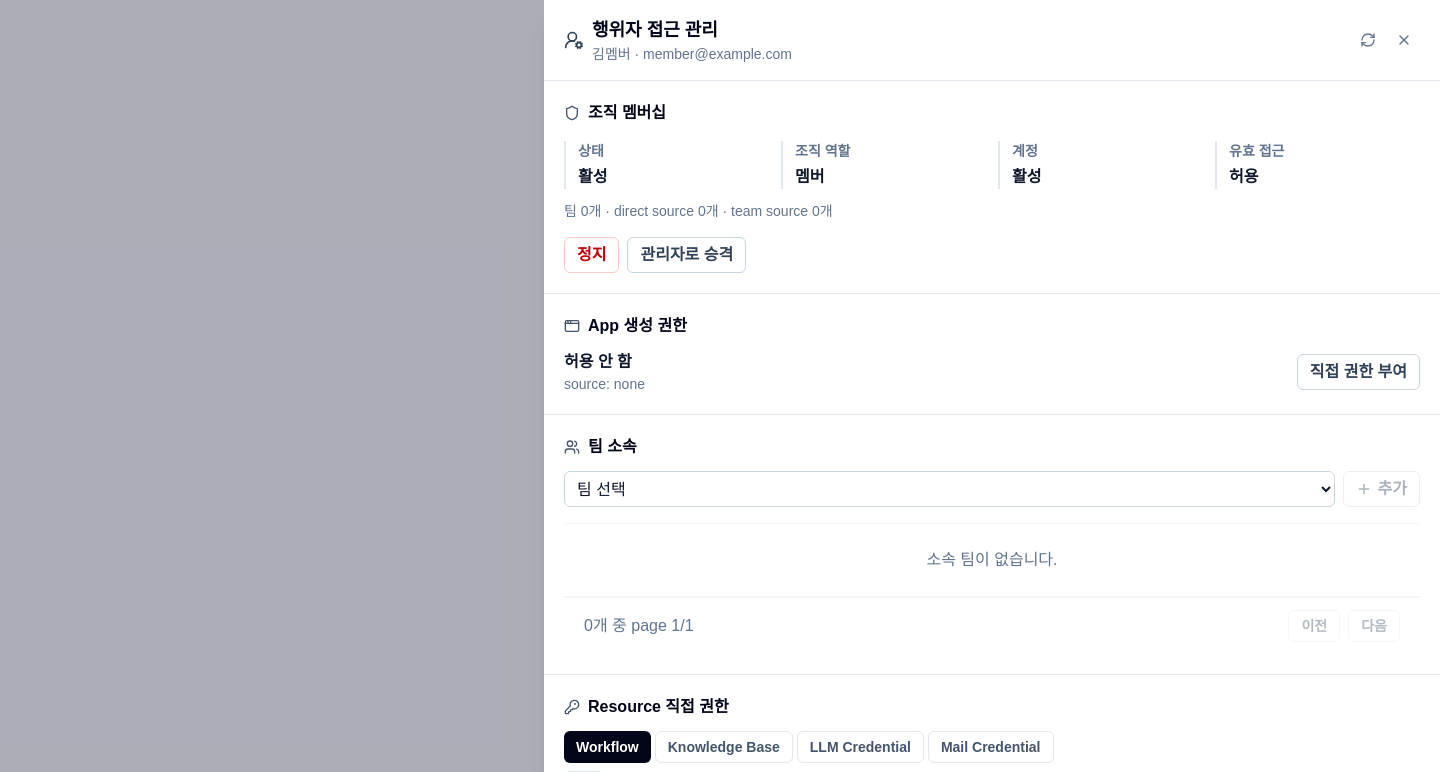
ActorAccessDrawer › stale 409는 자동 재시도하지 않고 최신 profile을 다시 조회한다
This screenshot has width=1440, height=772.
Click the button "정지". click: click(592, 255)
box: [564, 237, 620, 273]
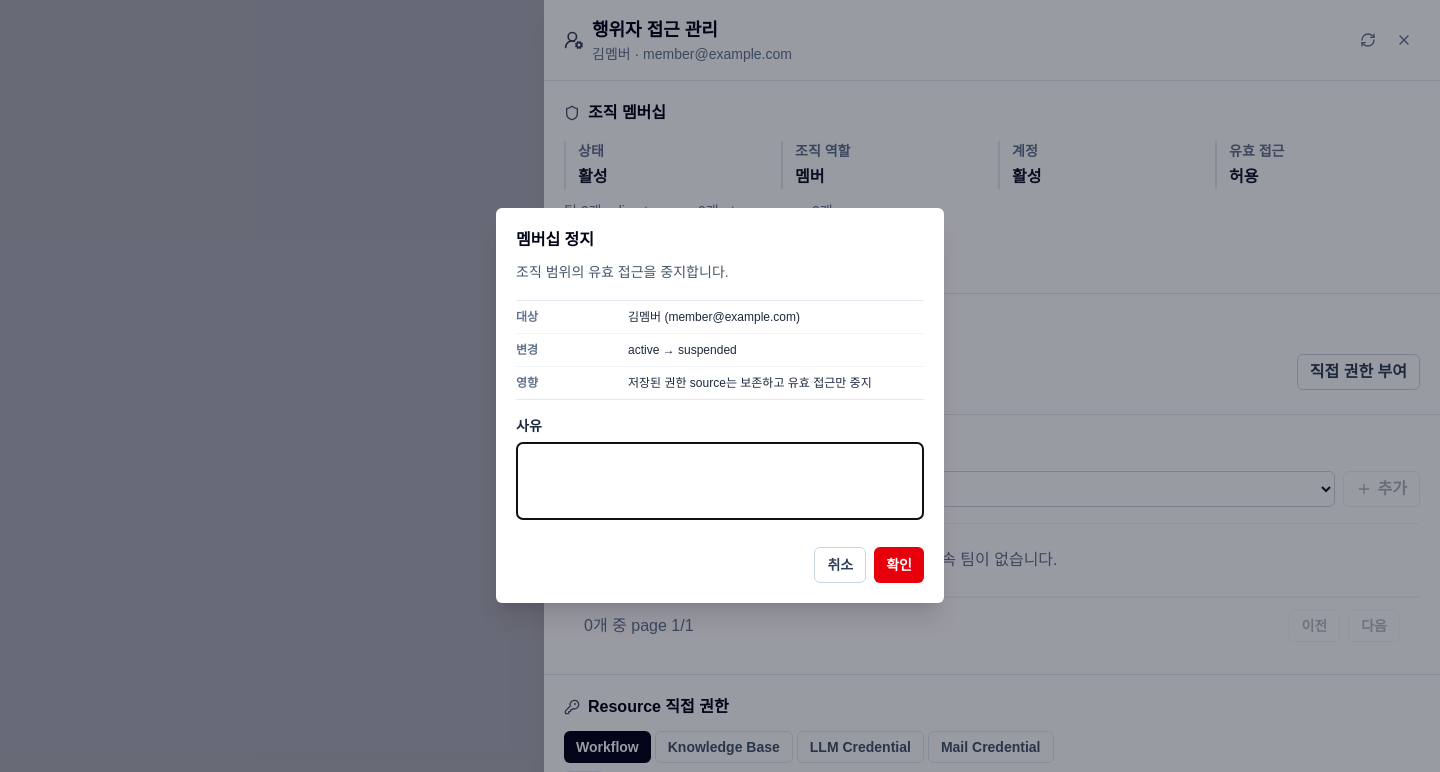
Click the button "확인". click: click(899, 564)
box: [874, 546, 924, 582]
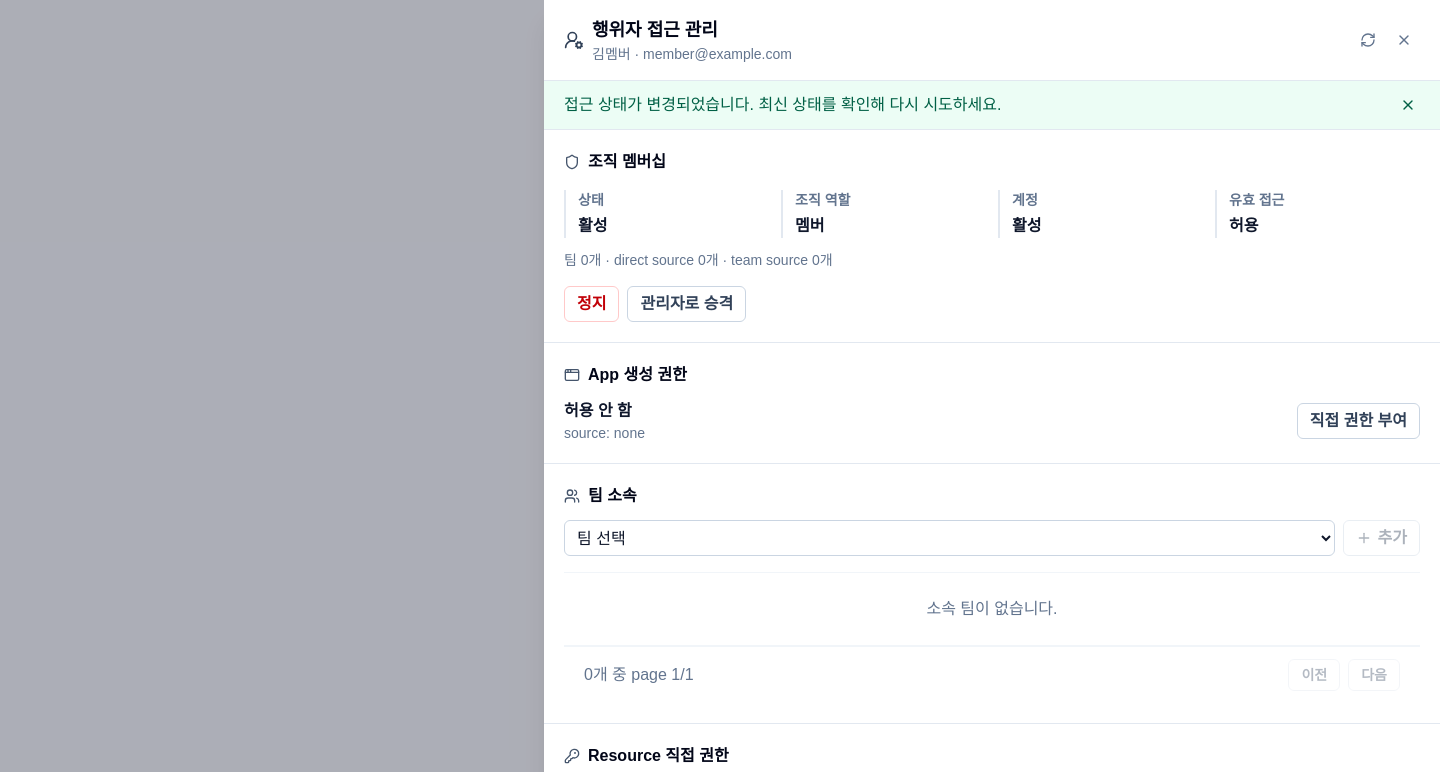
Expected: the heading "멤버십 정지" is gone
Expected: the text "접근 상태가 변경되었습니다. 최신 상태를 확인해 다시 시도하세요." is shown, [564, 93, 1002, 117]
